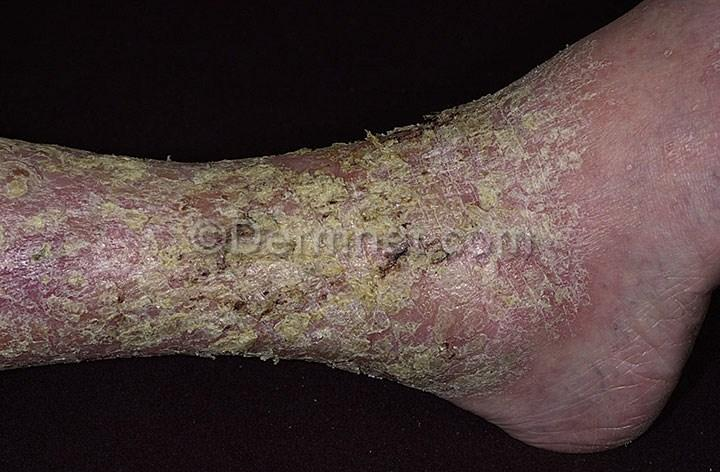Eczema: (202, 254, 592, 360), (2, 138, 120, 366), (398, 125, 615, 224), (125, 156, 399, 223), (469, 49, 645, 126), (340, 364, 554, 409), (125, 227, 193, 356)
